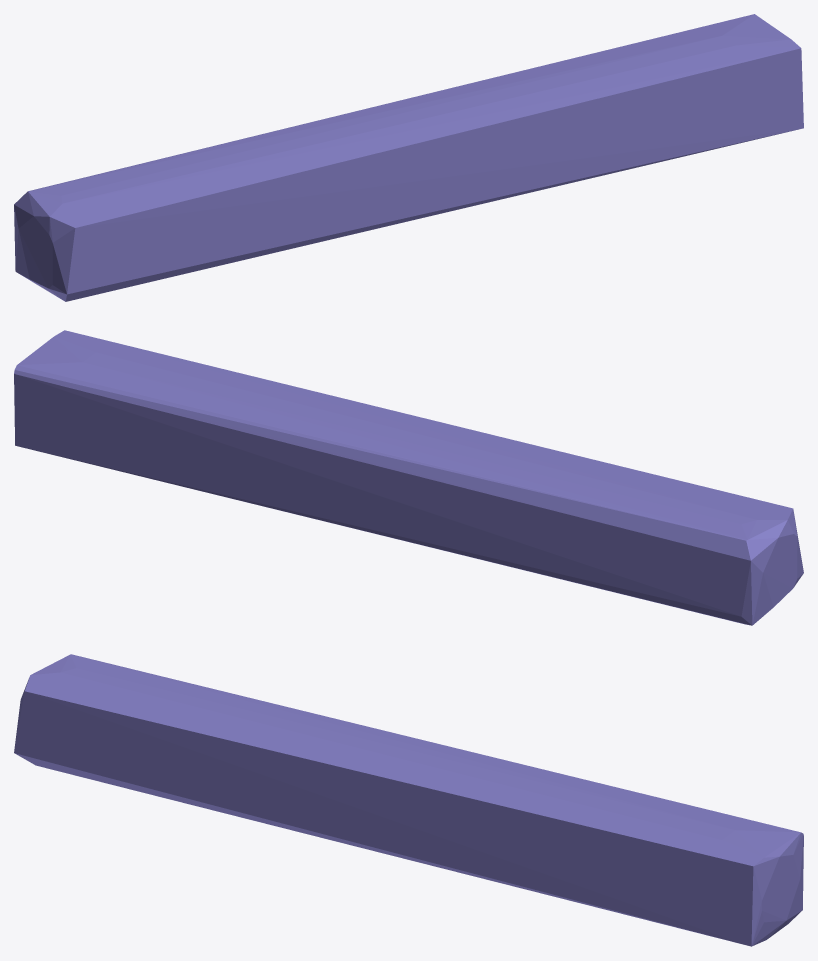
The model's file is drivetrain_drive_shaft_c01.glb.
3 views of the same model, one above another, from view 1: azimuth 30°, elevation 25°; view 2: azimuth 150°, elevation 25°; view 3: azimuth 330°, elevation 25° (orthographic).
Parts seen in each view (by area): view 1: geometry_0; view 2: geometry_0; view 3: geometry_0.
Part boxes in pixels (<box>): geometry_0: <box>14,14,803,301</box>; geometry_0: <box>14,330,803,625</box>; geometry_0: <box>14,654,803,946</box>.
Size of the model in its own units: 0.48 by 0.0531 by 0.0595.
